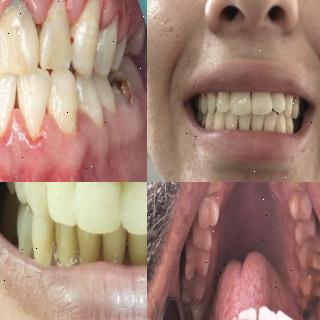Gum Swelling: (0, 112, 43, 169), (41, 117, 80, 170), (75, 115, 106, 157), (23, 0, 60, 23), (101, 0, 118, 32)
calculus: (0, 0, 36, 34)
cavities: (186, 266, 200, 288)
maligned: (49, 67, 79, 135), (43, 0, 71, 70), (252, 88, 272, 118), (272, 86, 288, 114), (261, 109, 277, 131)
plaque: (76, 182, 125, 230), (47, 182, 79, 220), (123, 182, 147, 232), (92, 231, 110, 263), (49, 223, 63, 260), (119, 232, 131, 268), (24, 182, 56, 195)
stains: (284, 193, 299, 219), (204, 220, 216, 246), (210, 193, 222, 217), (291, 222, 303, 246), (298, 276, 310, 298), (287, 182, 301, 200)
